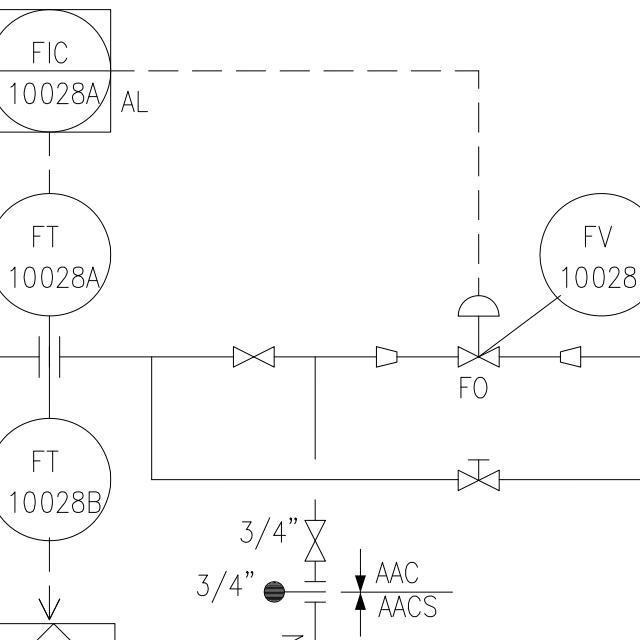FC: (451, 290, 506, 370), (455, 452, 504, 495), (301, 515, 325, 566)
GV: (230, 343, 281, 370)
SP: (371, 342, 405, 369), (556, 342, 585, 371)
